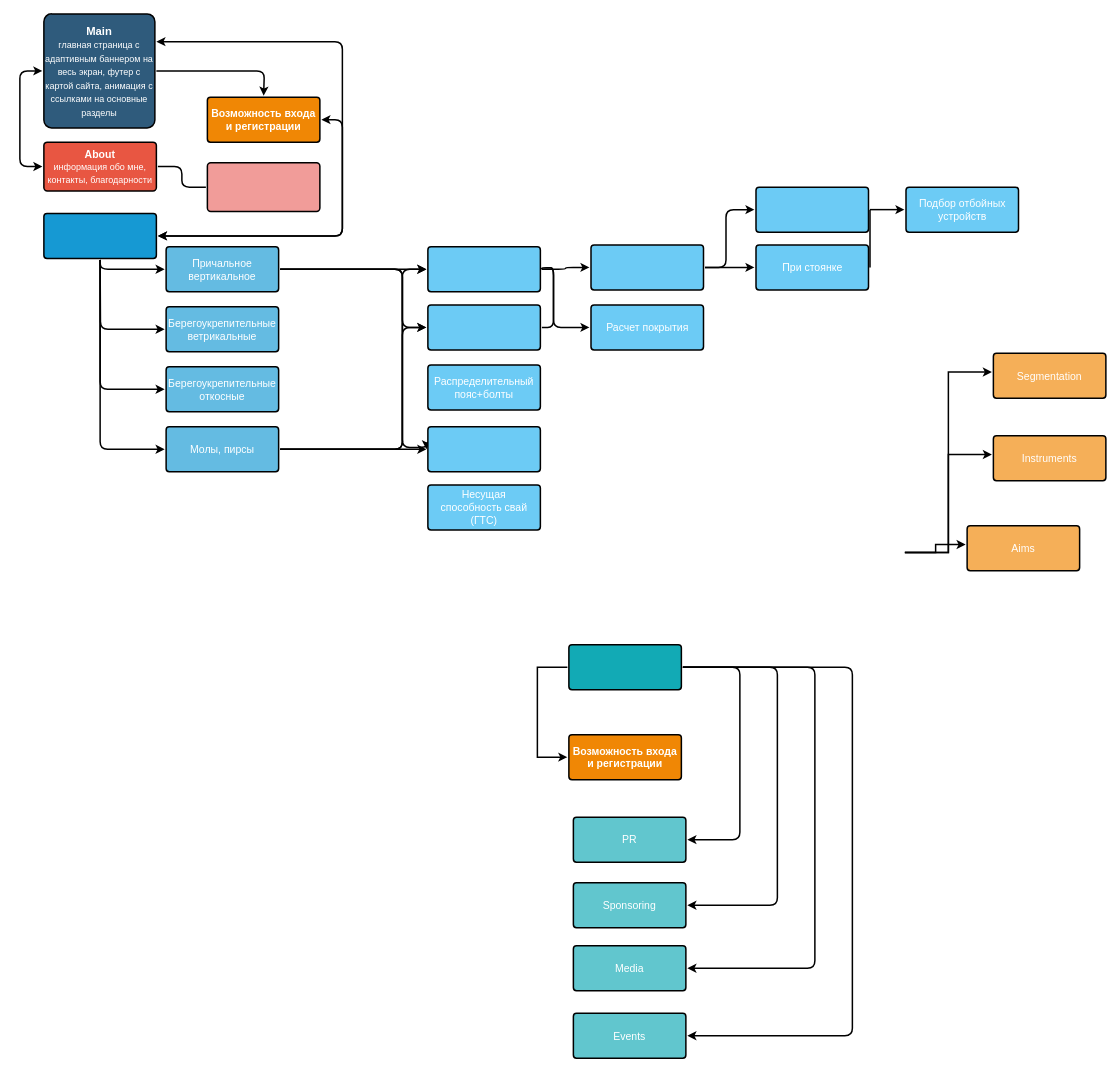
This 1119x1072 diagram has some shape labels left out. Here are the shapes that lost their labels. From the top down, the centre of each, then its label:
At (263,187): "Форма связи".
At (812,209): "При подходе к сооружению".
At (100,235): "Расчеты основной список без подразделов".
At (484,269): "Отметка кордона".
At (647,267): "Нагрузка от навала судна".
At (484,327): "Отметка дна".
At (484,449): "Крановые балки - моменты инерции и пр".
At (625,667): "Вывод документа с подтверждениями сро и пр".
